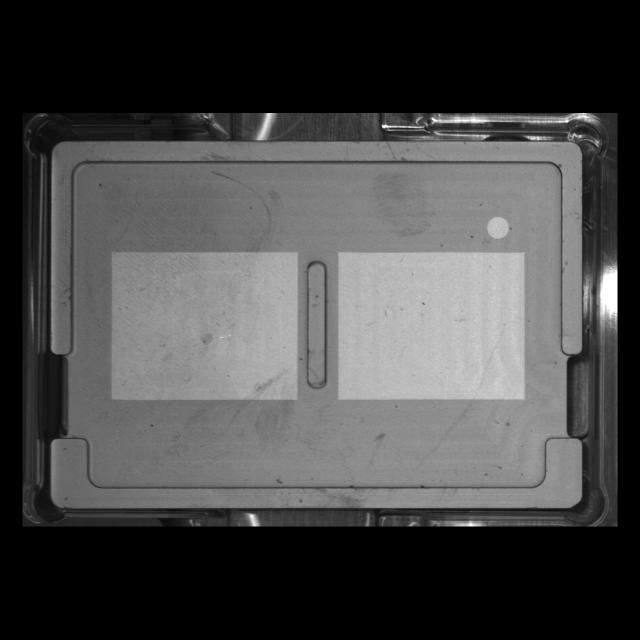door: (40, 424, 594, 518)
point: (483, 212, 512, 242)
